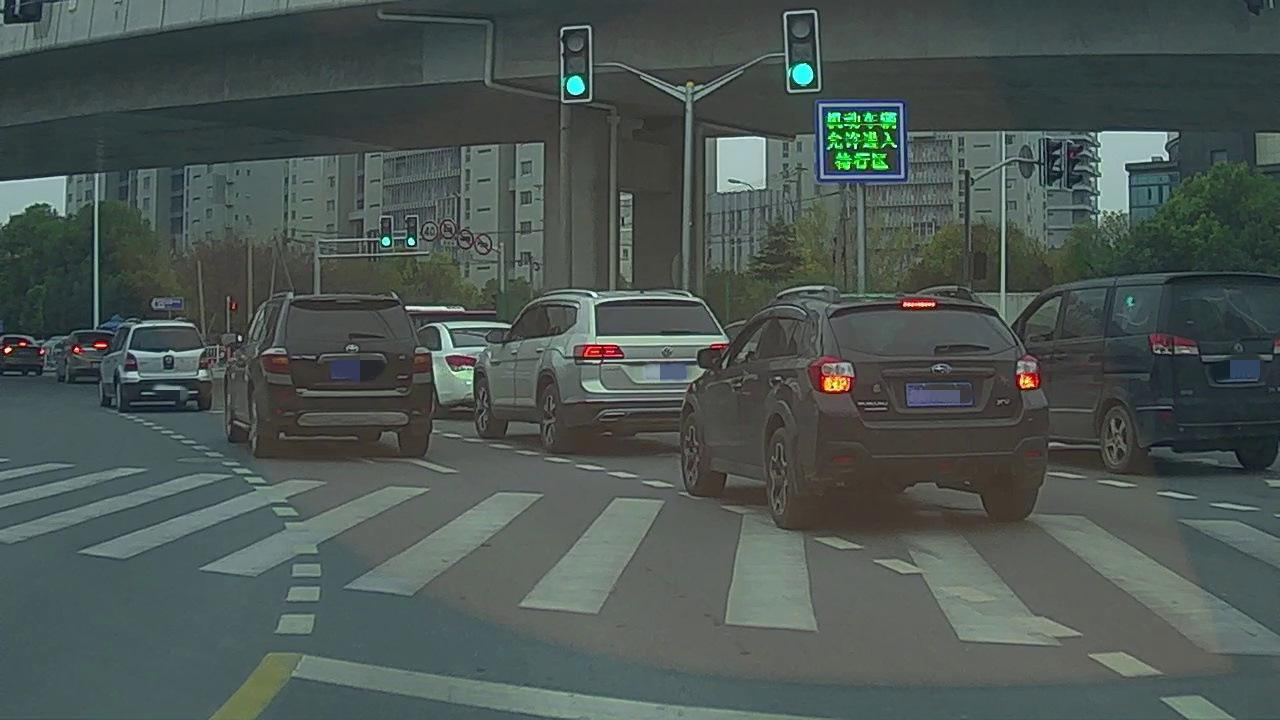traffic_light: (786, 12, 820, 90), (562, 28, 590, 100), (380, 216, 392, 248), (407, 216, 418, 248)
